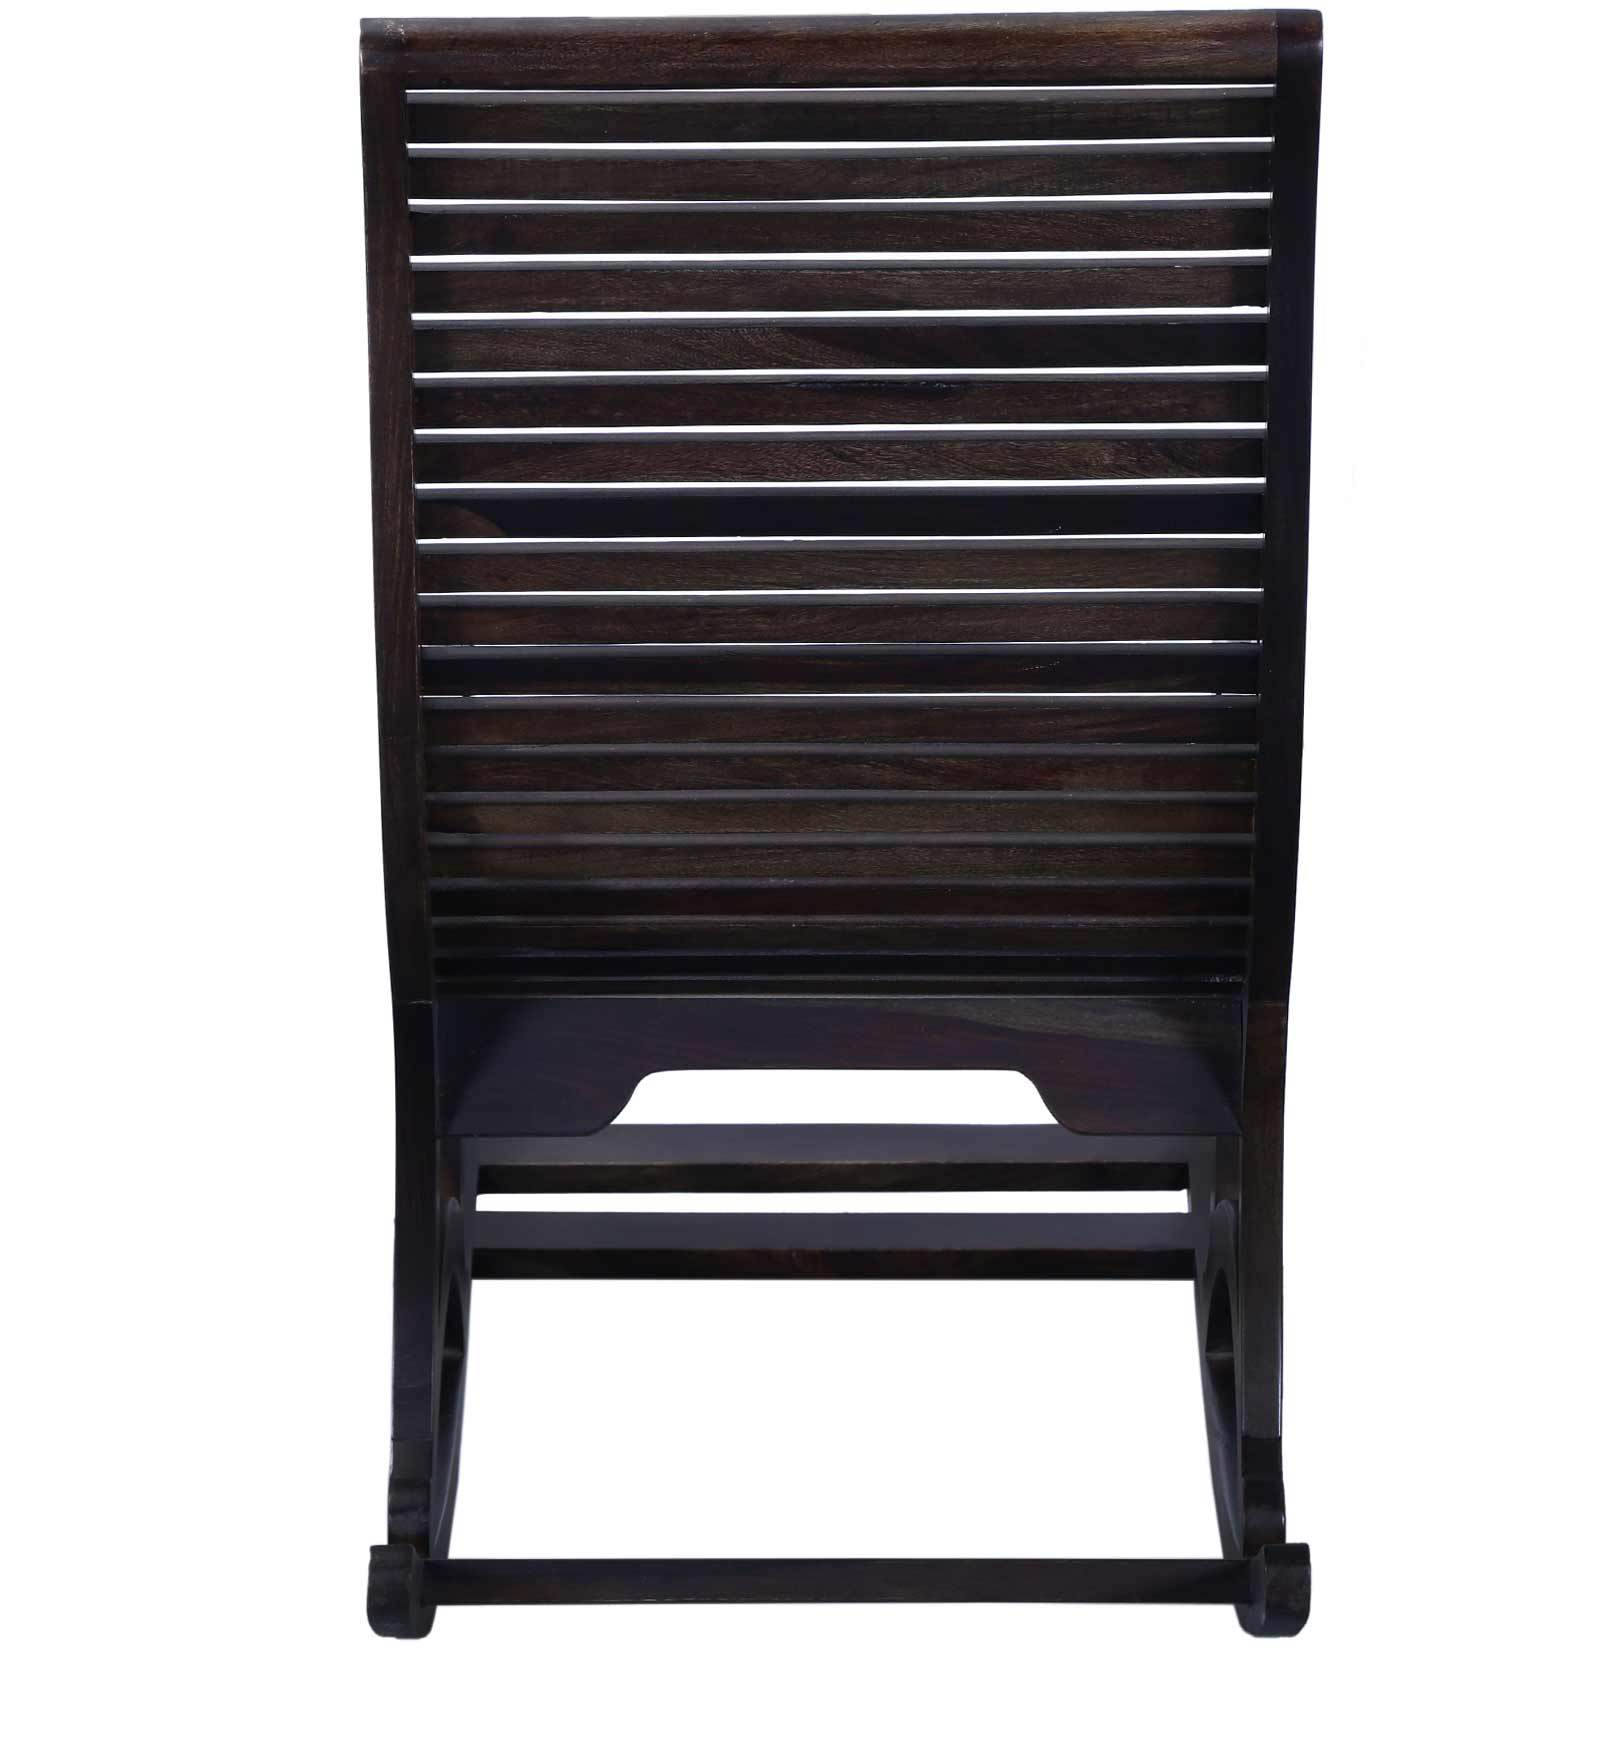Wellesley Rocking Chair in Warm Chestnut Finish by Amberville: (314, 9, 1401, 1677)
